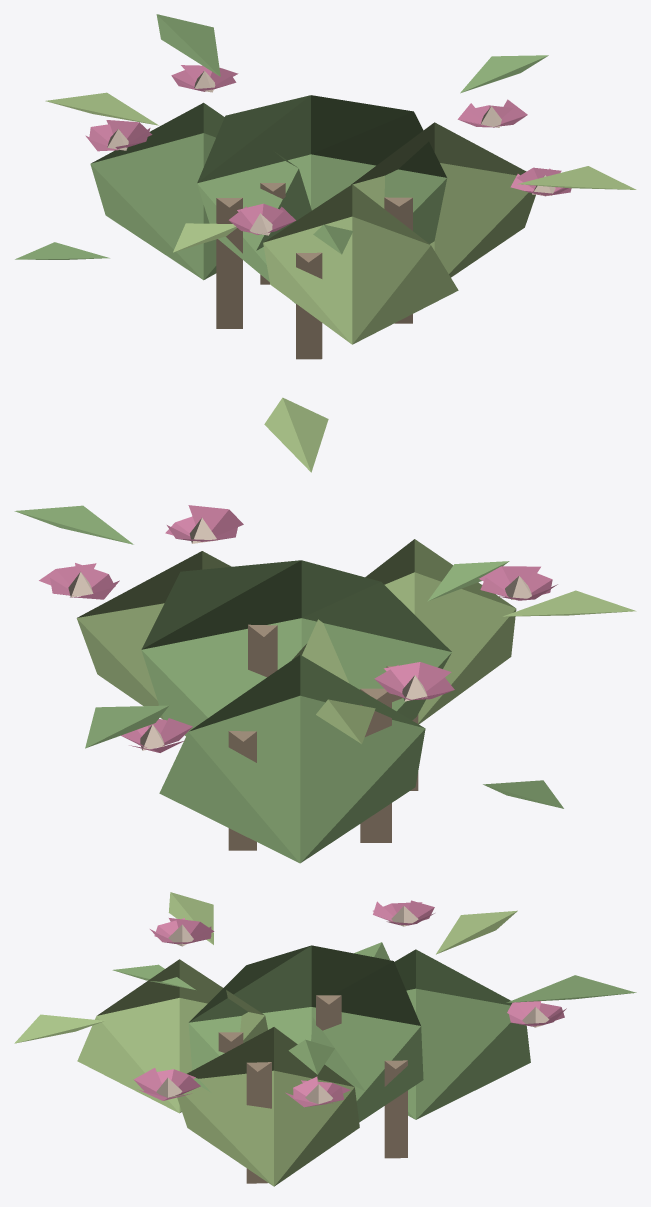
The model's file is guan.aili__bloom.glb.
3 views of the same model, one above another, from view 1: azimuth 30°, elevation 25°; view 2: azimuth 150°, elevation 25°; view 3: azimuth 270°, elevation 25° (orthographic). The views are drawn at different scales.
Visible parts, largest first — view 1: guan.aili__bloom; view 2: guan.aili__bloom; view 3: guan.aili__bloom.
Part boxes in pixels (x1,y1,x2,y2): guan.aili__bloom: (15, 14, 636, 359); guan.aili__bloom: (14, 397, 636, 863); guan.aili__bloom: (14, 892, 636, 1186).
Size of the model in its own units: 2.07 by 0.8506 by 2.32.
